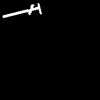double_crochet: (3, 3, 41, 17)
